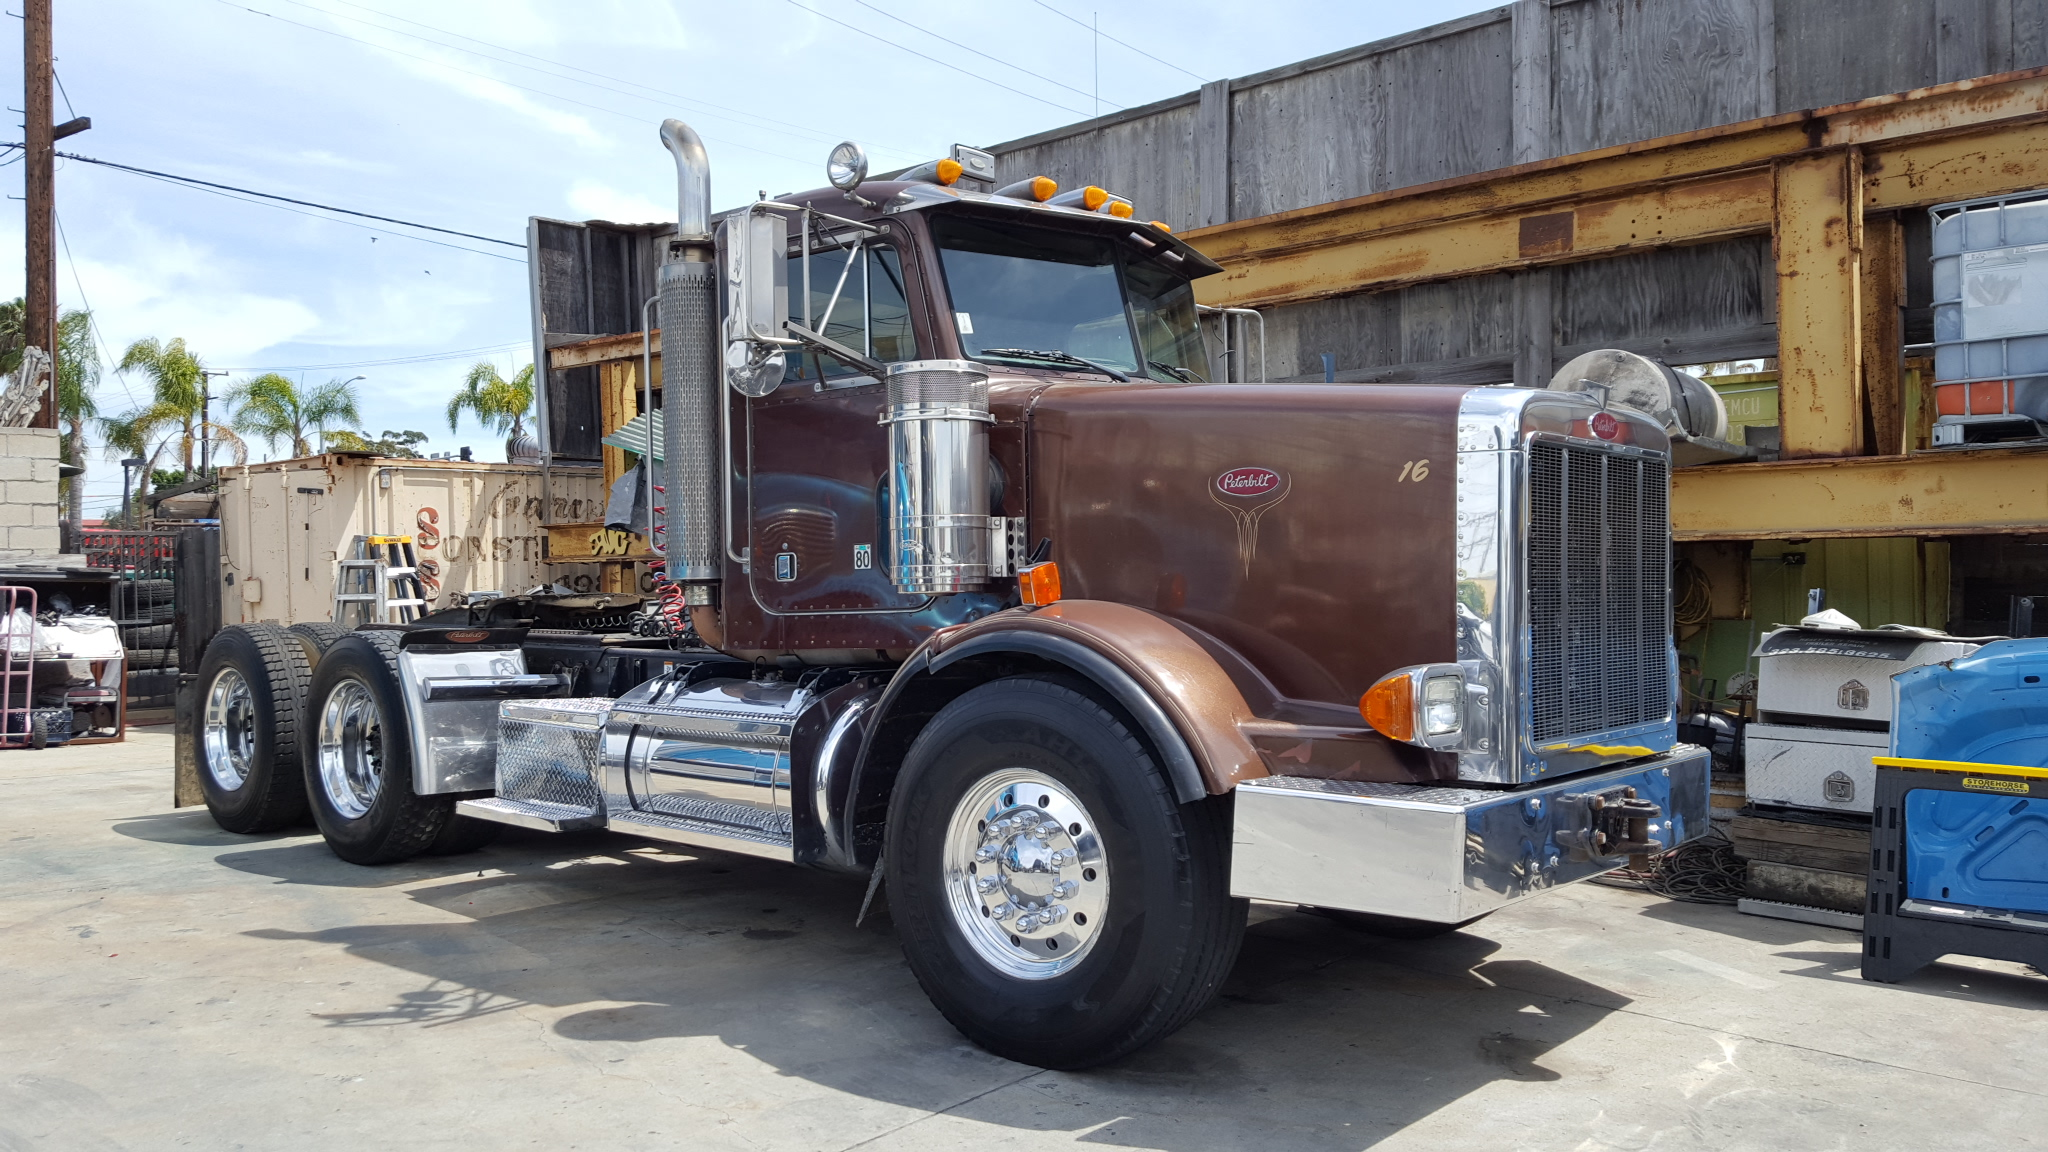truck: (143, 41, 1748, 1075)
